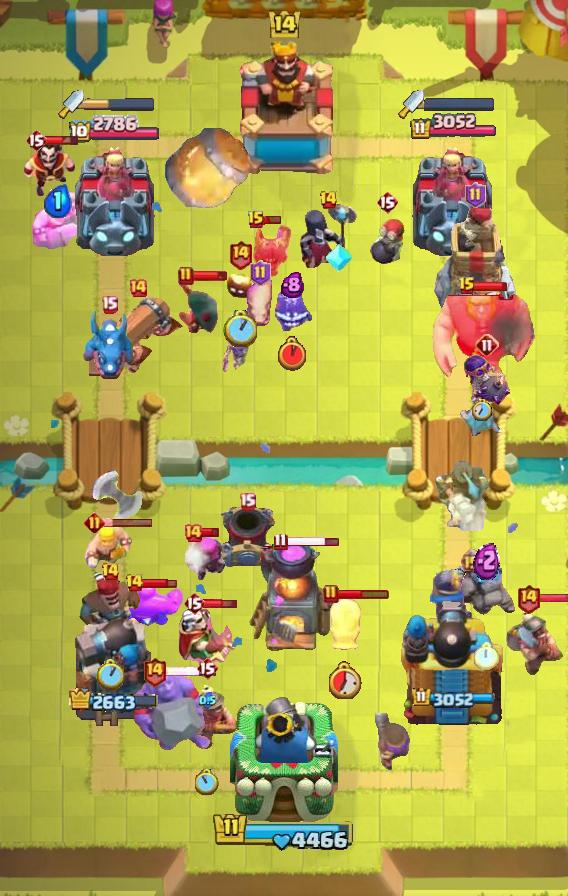axe: (86, 470, 144, 532)
bandit: (172, 274, 222, 338)
bar: (285, 535, 340, 548), (337, 588, 390, 600), (165, 666, 218, 677), (102, 517, 154, 528), (203, 597, 238, 610), (192, 270, 228, 282), (142, 577, 177, 589), (45, 134, 80, 146), (474, 281, 508, 292), (538, 593, 568, 604), (262, 214, 282, 225), (201, 527, 220, 538)
bar-level: (142, 656, 167, 687), (516, 583, 541, 614), (228, 239, 253, 270), (475, 333, 499, 357), (250, 260, 271, 286), (465, 182, 486, 208), (460, 549, 483, 572), (196, 656, 218, 680), (183, 591, 205, 615), (376, 190, 398, 214), (25, 128, 47, 152), (84, 512, 105, 533), (183, 523, 203, 543), (128, 278, 148, 298), (125, 573, 144, 593), (101, 562, 120, 582), (319, 190, 338, 210), (458, 276, 476, 296), (247, 210, 265, 230), (239, 492, 256, 511), (101, 295, 118, 314), (323, 584, 339, 604), (178, 266, 194, 286), (273, 532, 288, 551)
barbarian: (80, 527, 134, 573)
bomber: (367, 218, 407, 266)
bomber-evolution: (462, 354, 512, 408)
cannoneer-tower: (397, 595, 509, 731), (71, 611, 157, 731)
clock: (223, 310, 257, 347), (329, 661, 362, 699), (278, 336, 306, 371), (96, 659, 124, 690), (474, 642, 499, 670), (195, 769, 219, 795), (472, 399, 492, 421)
dagger-duchess-tower: (409, 142, 497, 256), (70, 142, 158, 256)
dagger-duchess-tower-bar: (424, 97, 496, 111), (84, 97, 156, 111)
electro-dragon: (81, 309, 137, 383)
electro-spirit: (272, 287, 312, 331)
electro-wizard: (22, 136, 78, 200)
elite-barbarian: (30, 192, 84, 250)
elixir: (473, 541, 500, 580), (43, 184, 72, 218), (281, 271, 304, 298), (199, 692, 216, 709)
elixir-golem-mid: (112, 579, 184, 629)
fire-spirit: (226, 271, 254, 299)
firecracker: (185, 530, 226, 584)
golemite: (453, 559, 519, 621)
hog: (244, 276, 276, 328)
hunter: (77, 570, 143, 650)
ice-spirit: (459, 404, 505, 436)
ice-spirit-evolution-symbol: (324, 243, 354, 273)
king-tower: (228, 41, 340, 181), (230, 692, 338, 826)
king-tower-bar: (212, 811, 356, 853)
knight: (430, 566, 475, 631)
miner: (504, 604, 568, 678), (175, 679, 239, 751)
mortar: (216, 503, 278, 571)
musketeer: (375, 713, 413, 773)
night-witch: (298, 200, 358, 272)
royal-hog: (327, 594, 363, 654)
skeleton-evolution: (220, 331, 252, 373)
tower-bar: (68, 115, 161, 145), (409, 113, 498, 141), (69, 688, 160, 715), (412, 687, 495, 708)
